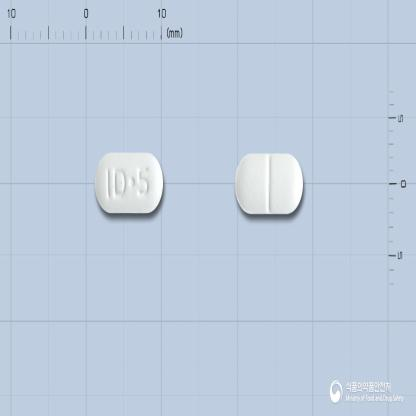pill: (234, 150, 304, 217), (95, 151, 164, 214)
